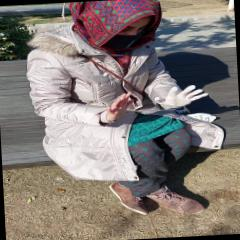gloved: (154, 84, 208, 112)
not-gloved: (102, 90, 136, 122)
